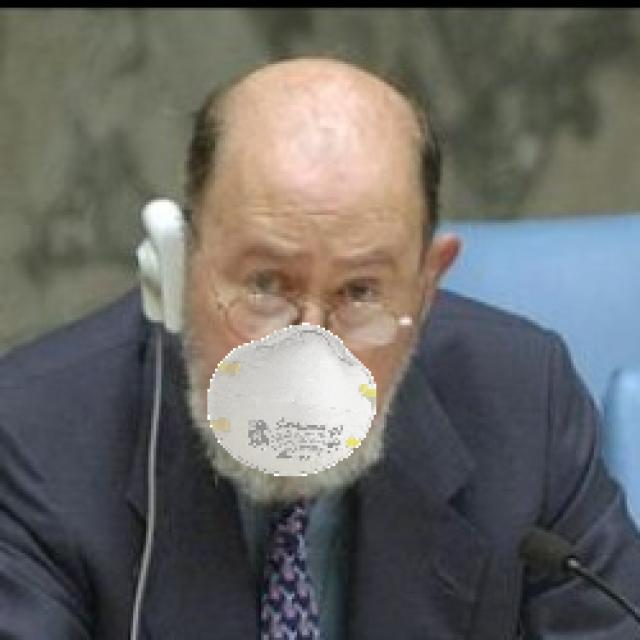mask: (199, 309, 393, 482)
